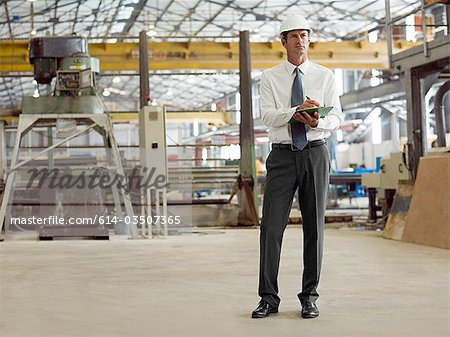person: (253, 13, 345, 316)
